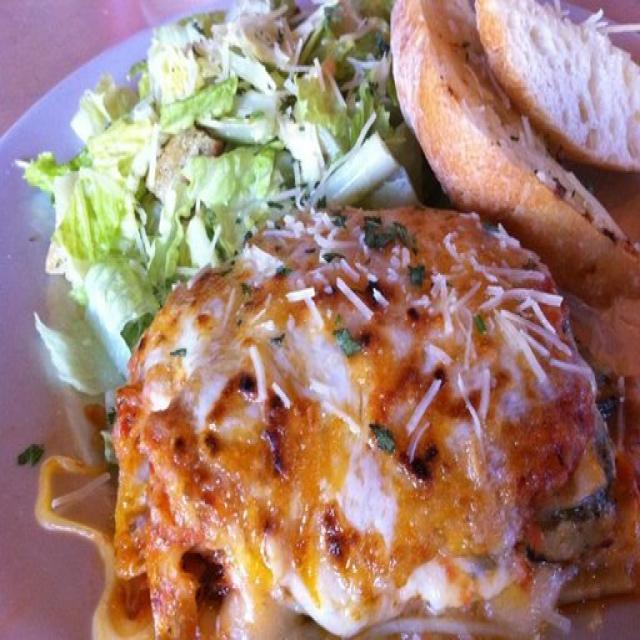Lasagna: (110, 207, 614, 640)
